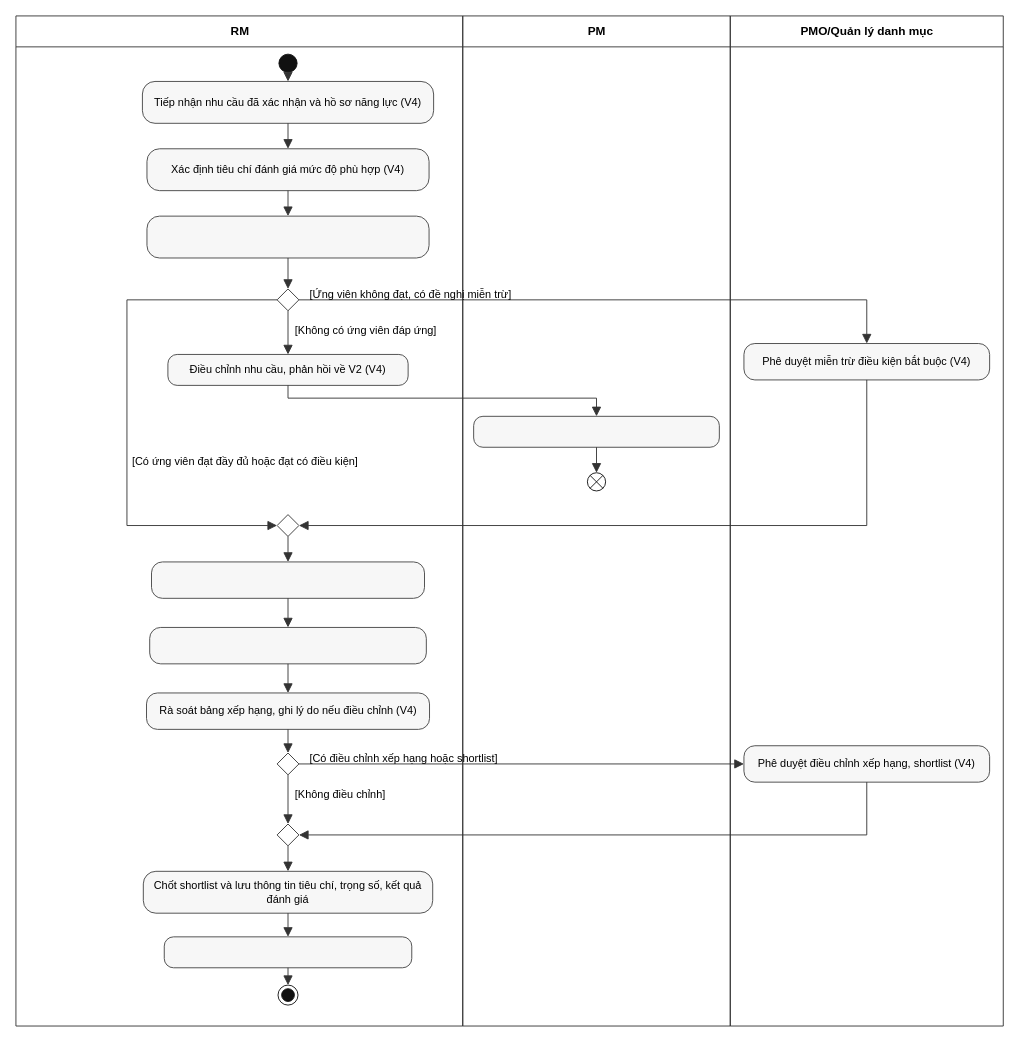
Some shapes in this 1019 by 1042 pixel diagram are drawn without their labels. Each missing label, with the centre of its shape:
"Bàn giao bản ghi kết quả tìm kiếm cho V5" goes at point (287, 952).
"Chấm điểm mức độ phù hợp theo bộ tiêu chí và trọng số đánh giá (V4)" goes at point (288, 579).
"Tiếp nhận phản hồi, rà soát lại nhu cầu (V2)" goes at point (596, 431).
"Tìm kiếm ứng viên, đối chiếu điều kiện bắt buộc (V4)" goes at point (287, 236).
"Xếp hạng ứng viên theo kết quả đánh giá mức độ phù hợp (V4)" goes at point (287, 645).
